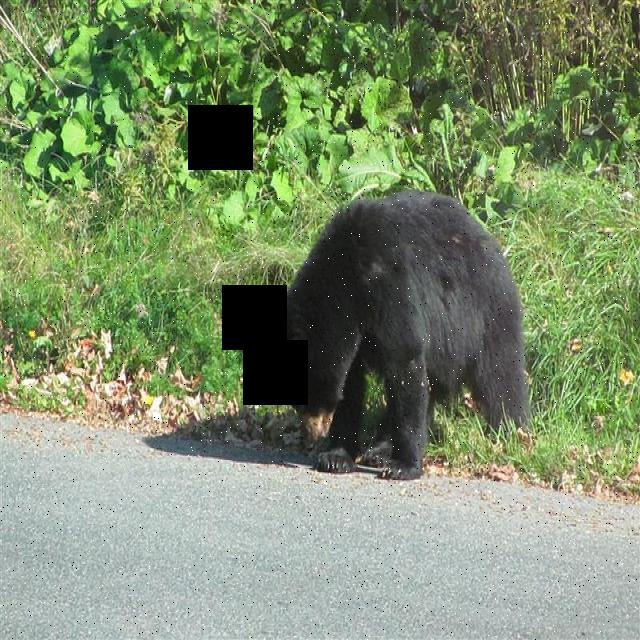Bear: (272, 184, 535, 482)
